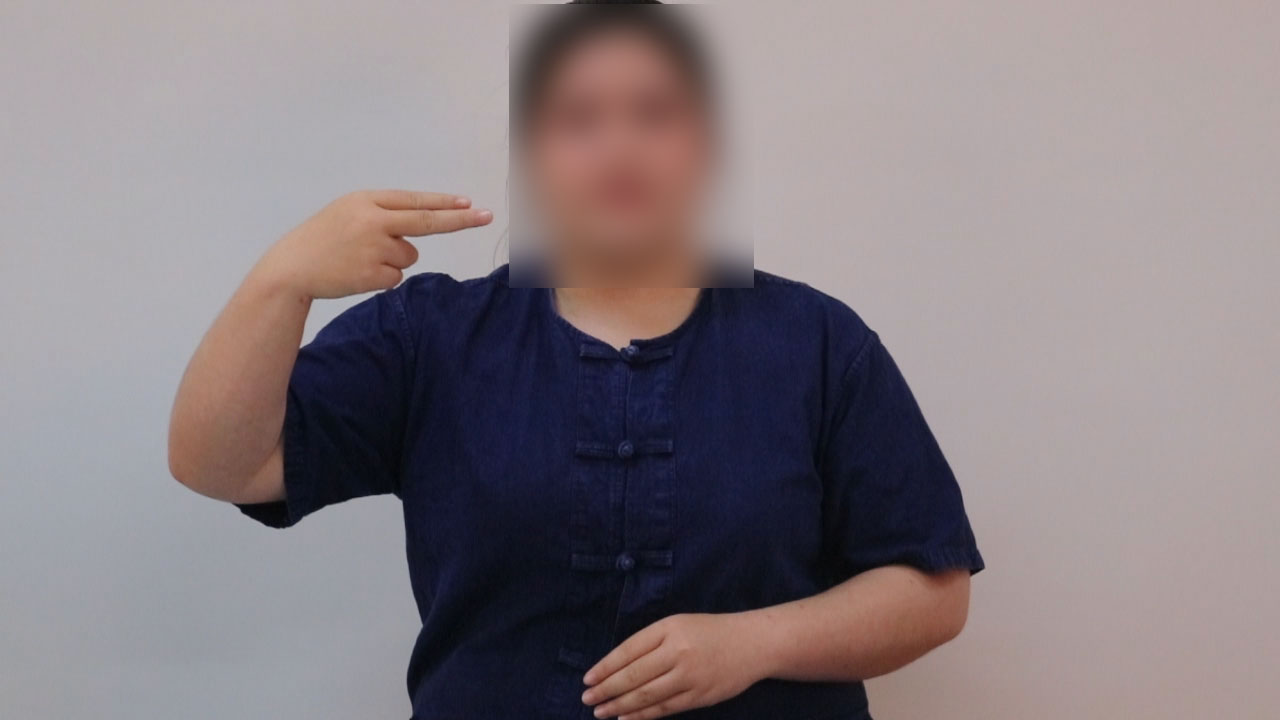hor: (266, 175, 503, 308)
